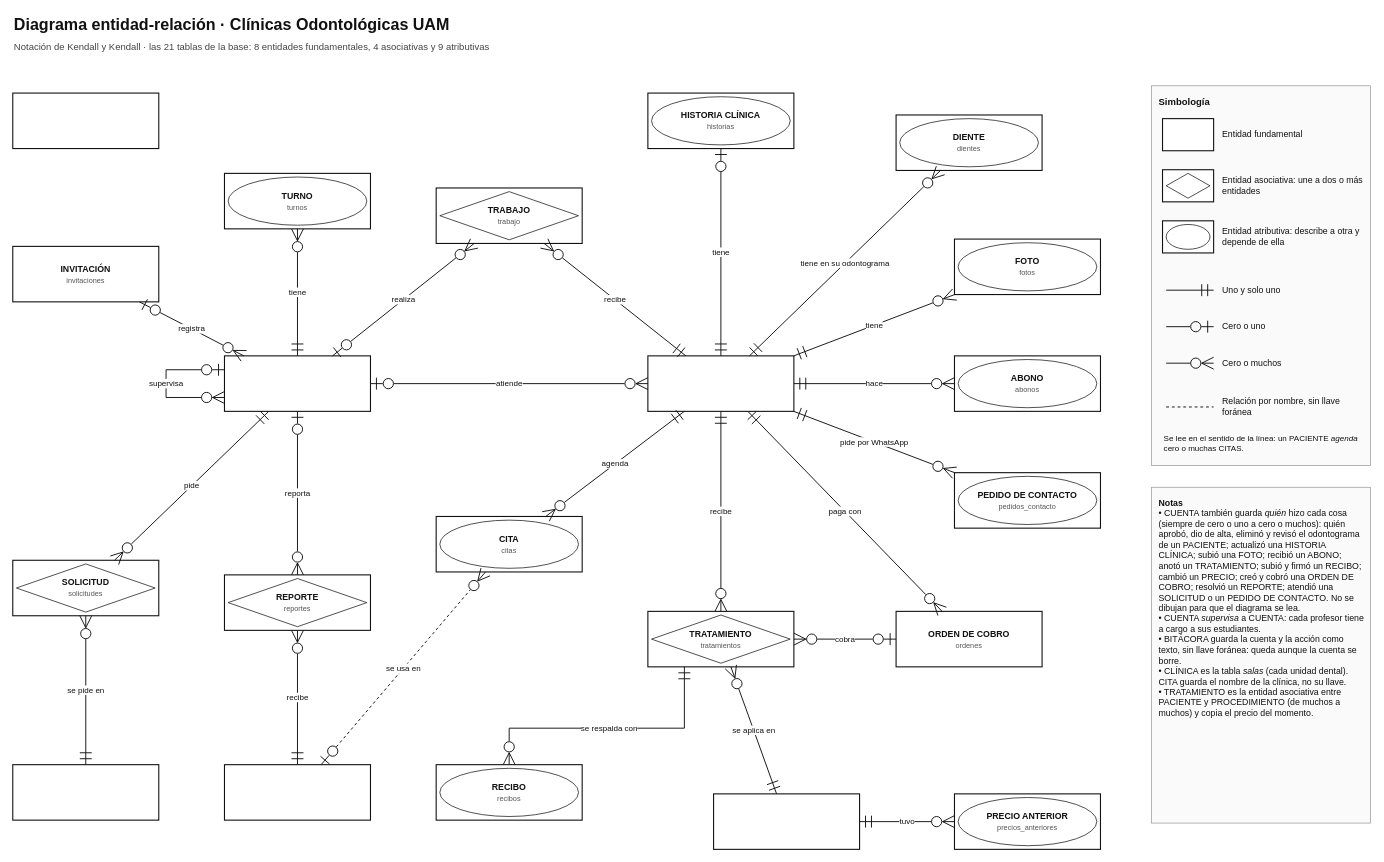
This 1384x862 diagram has some shape labels left out. The centre of each missing label's shape, as x and y in pixels:
"BITÁCORA bitacora" goes at [85,120].
"CLÍNICA salas" goes at [297,792].
"CUENTA cuentas" goes at [297,383].
"MATERIAL materiales" goes at [85,792].
"PACIENTE pacientes" goes at [720,383].
"PROCEDIMIENTO tarifario" goes at [786,821].
